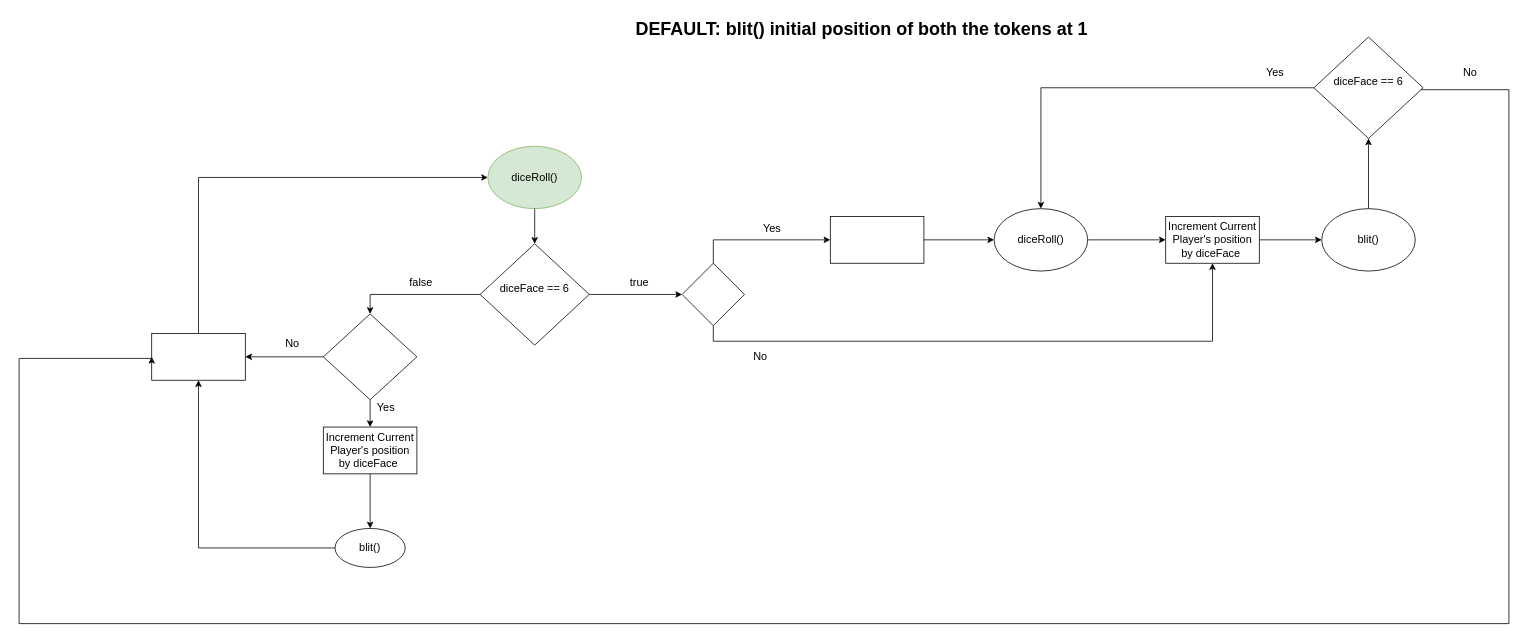
Some shapes in this 1529 by 644 pixel diagram are drawn without their labels. The box of each missing label's shape, as (x1, y1, x2, y2) in pixels:
change current player: (151, 333, 245, 380)
current player unlocked now: (830, 216, 924, 263)
current player unlocked?: (323, 313, 417, 400)
First 6?: (681, 262, 745, 326)
